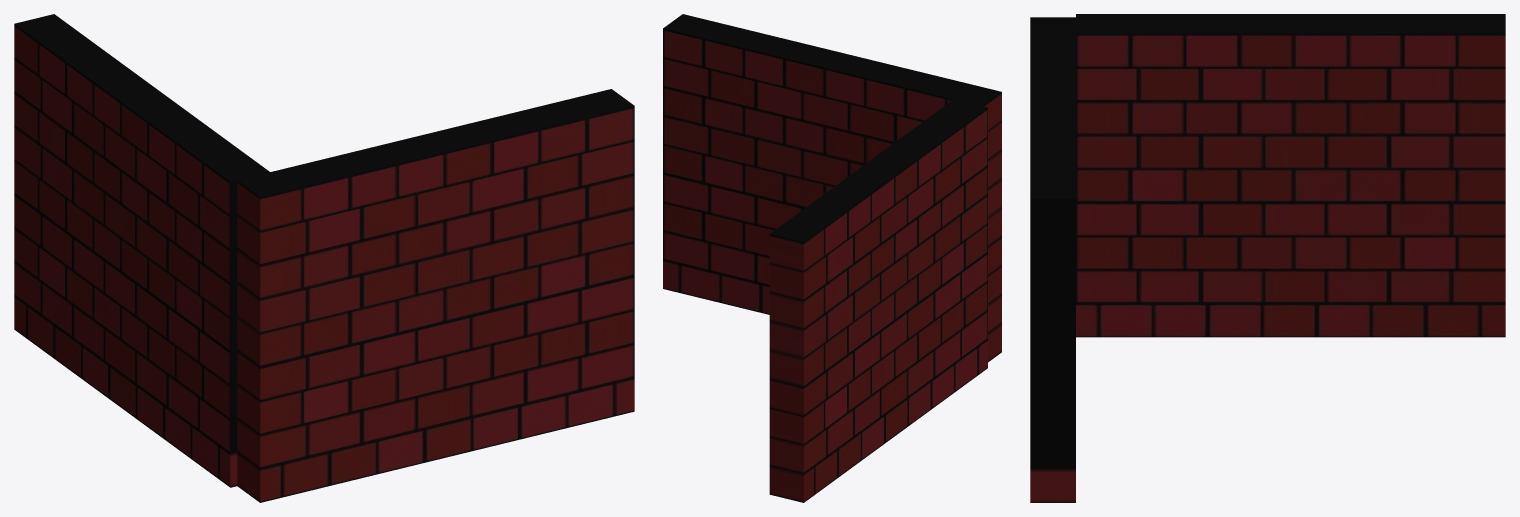
The model's file is walls.fbx.
3 views of the same model, side by side, from view 1: azimuth 30°, elevation 25°; view 2: azimuth 150°, elevation 25°; view 3: azimuth 270°, elevation 25° (orthographic). The views are drawn at different scales.
Visible parts, largest first — view 1: Wall-side, Wall-front; view 2: Wall-front, Wall-side; view 3: Wall-front, Wall-side.
Part boxes in pixels (box(x1,y1,x2,y2)): Wall-side: box(237, 89, 634, 502); Wall-front: box(14, 14, 269, 487); Wall-front: box(769, 99, 987, 502); Wall-side: box(663, 14, 1001, 362); Wall-front: box(1076, 14, 1505, 337); Wall-side: box(1030, 17, 1075, 502).
Bounding box in the file's own units: 351 × 269 × 382.
Materials: 2 (2 with a texture image).
